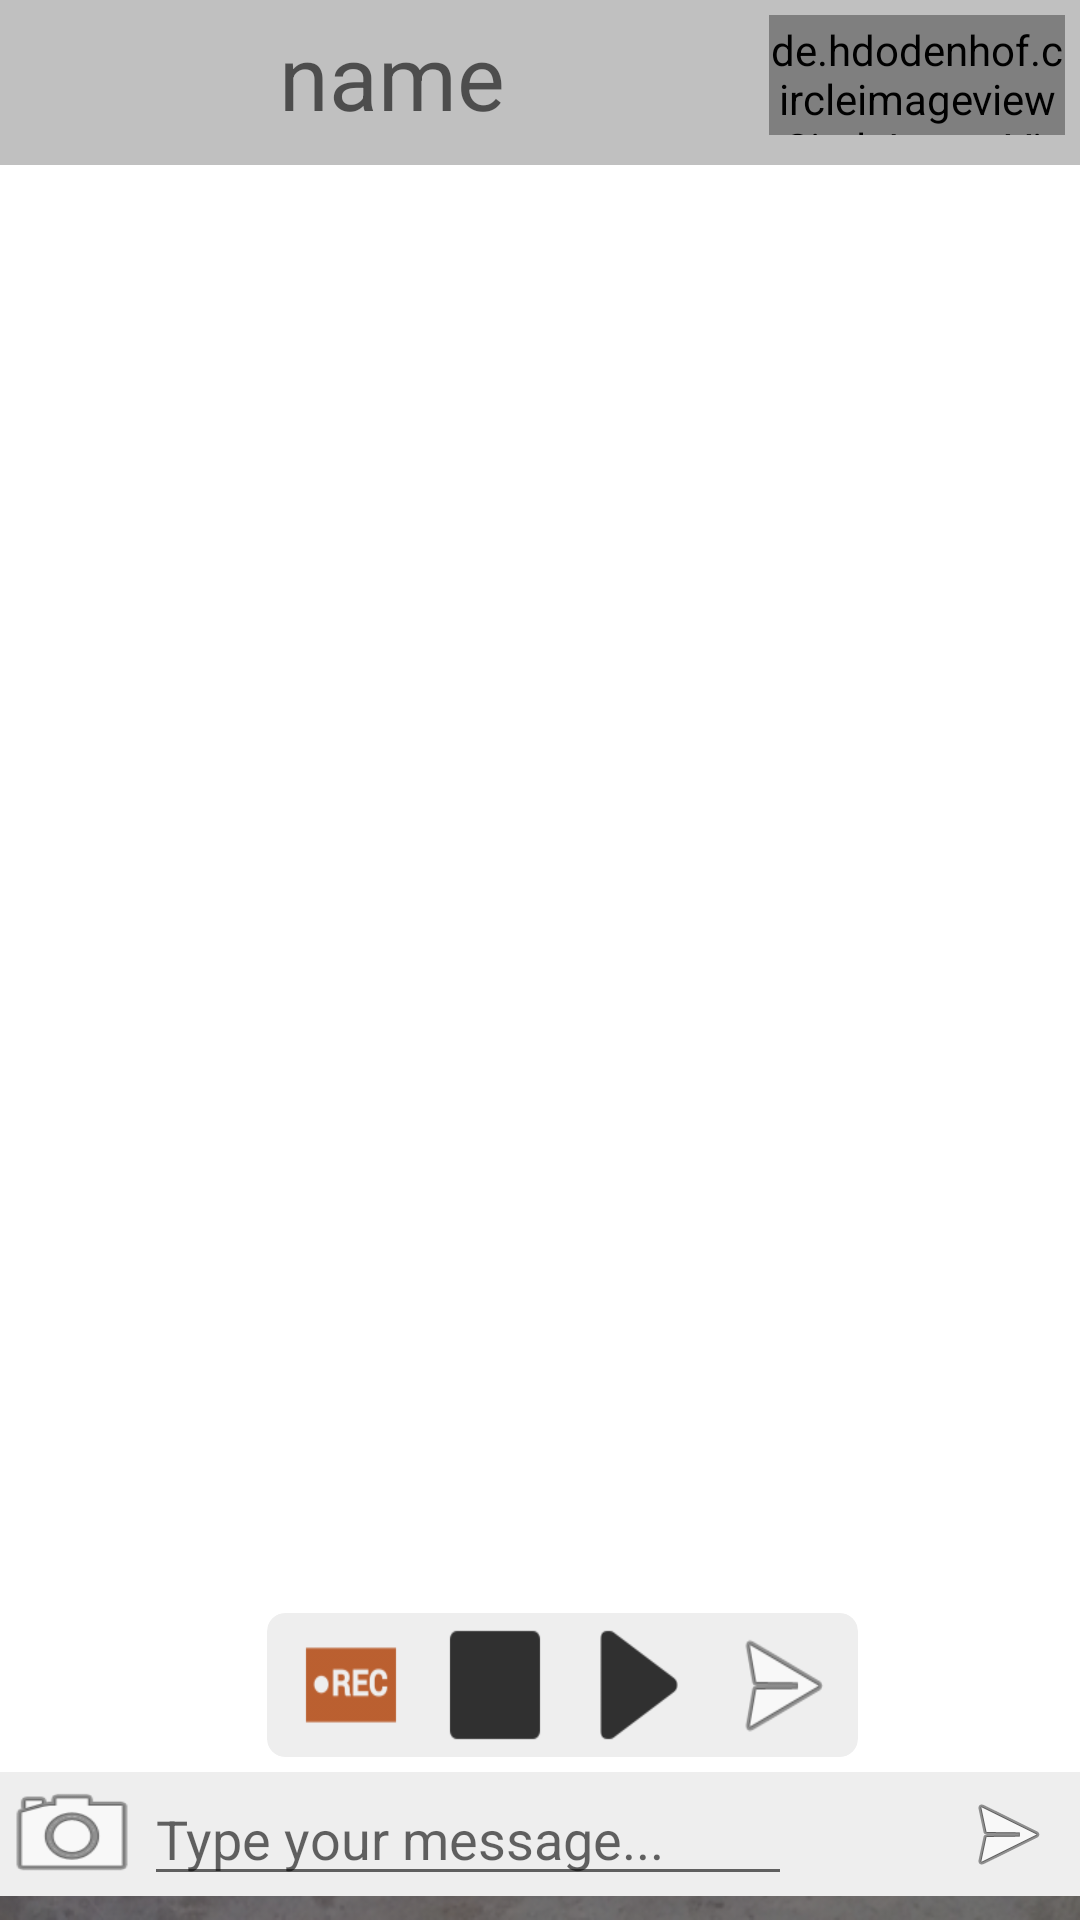

Where icons sit on this 1080px x 1920px app screen, as (x1, y1, x2, y2):
camera: (16, 1793, 128, 1871)
play record: (600, 1630, 678, 1740)
send: (746, 1640, 823, 1731), (978, 1804, 1040, 1865)
stop record: (450, 1630, 540, 1740)
